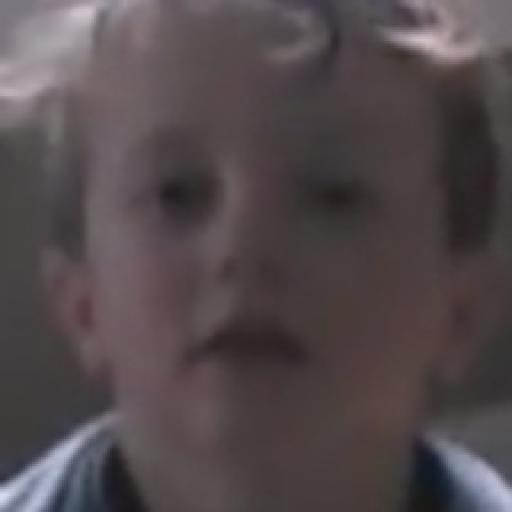Autism: (56, 44, 429, 436)
